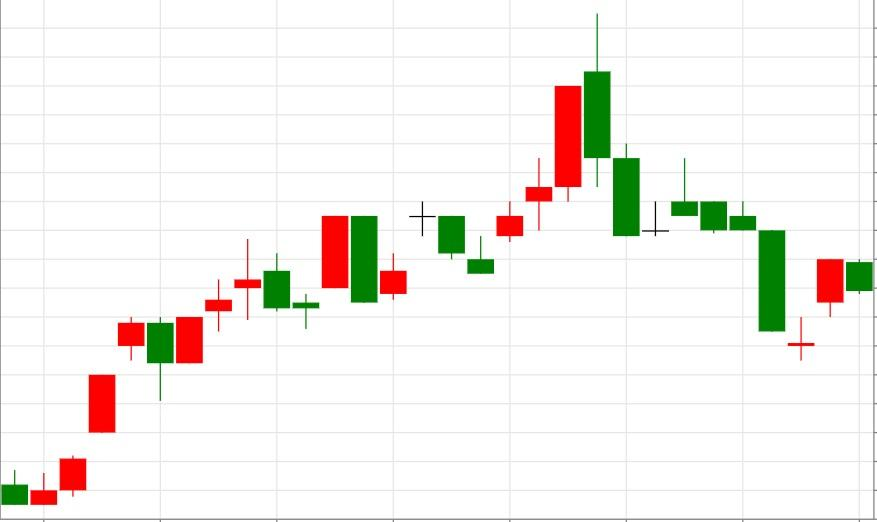three_white_soldiers_rise: (408, 84, 583, 274), (0, 374, 115, 505)
